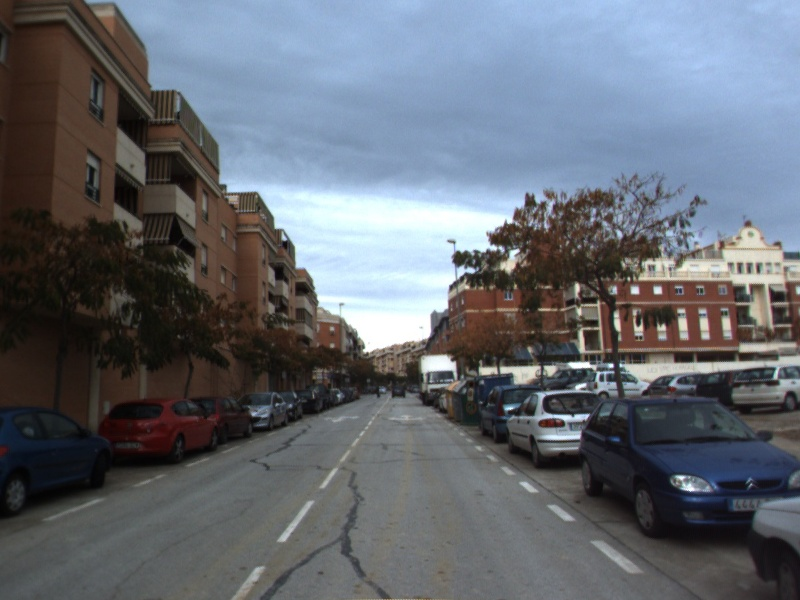STRAIGHT_LEFT_RIGHT: (386, 411, 428, 423)
